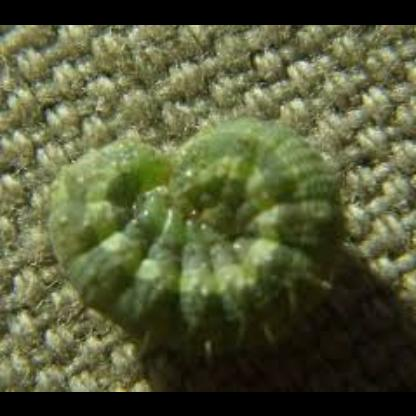oruga: (44, 113, 356, 358)
